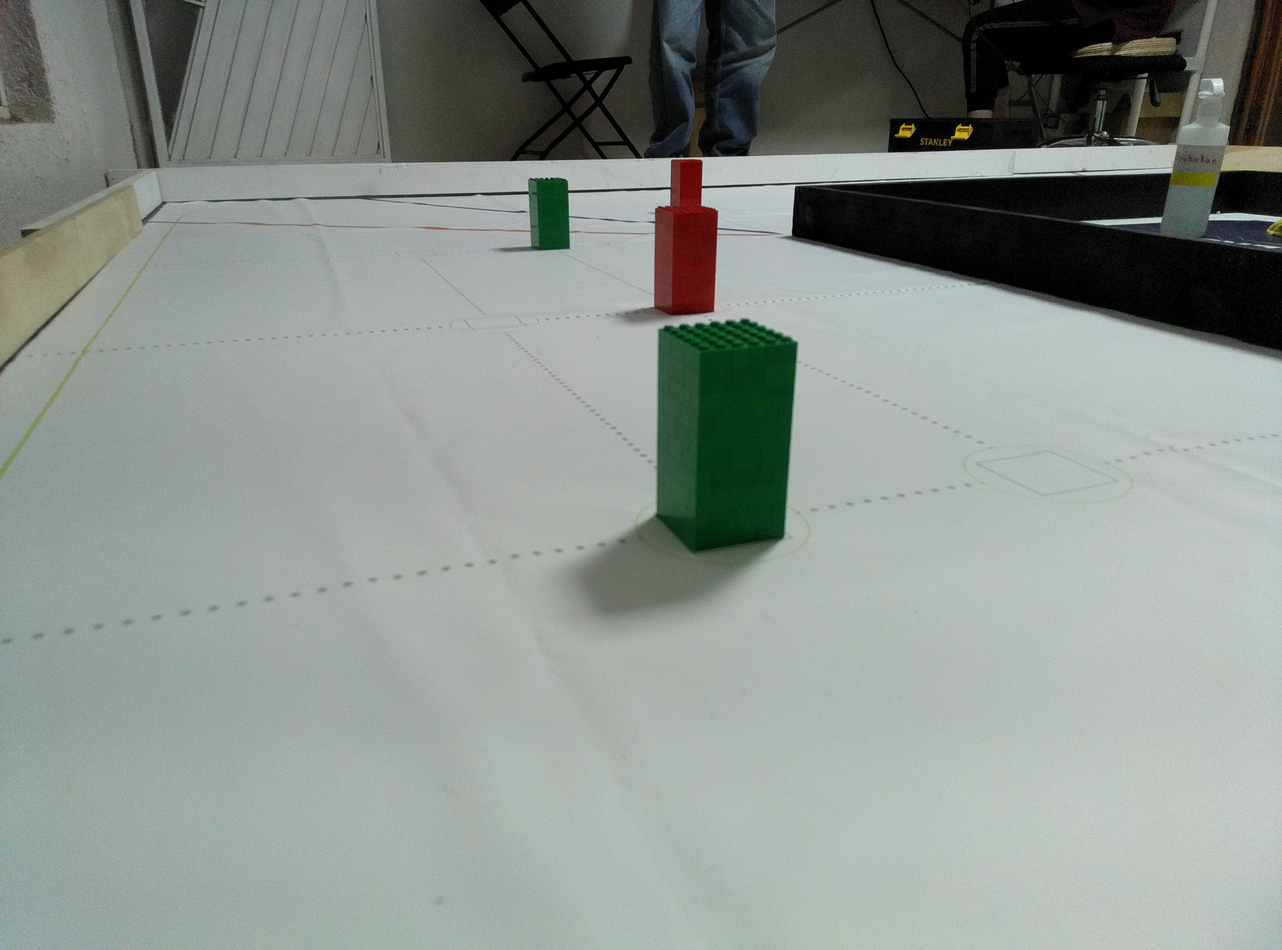greenbox: (654, 315, 801, 555), (527, 178, 571, 251)
redbox: (653, 205, 719, 314), (670, 159, 703, 206)
